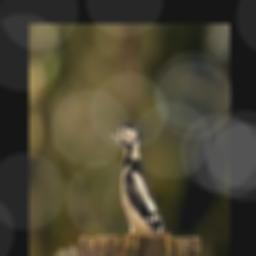Woodpecker: (108, 123, 166, 234)
